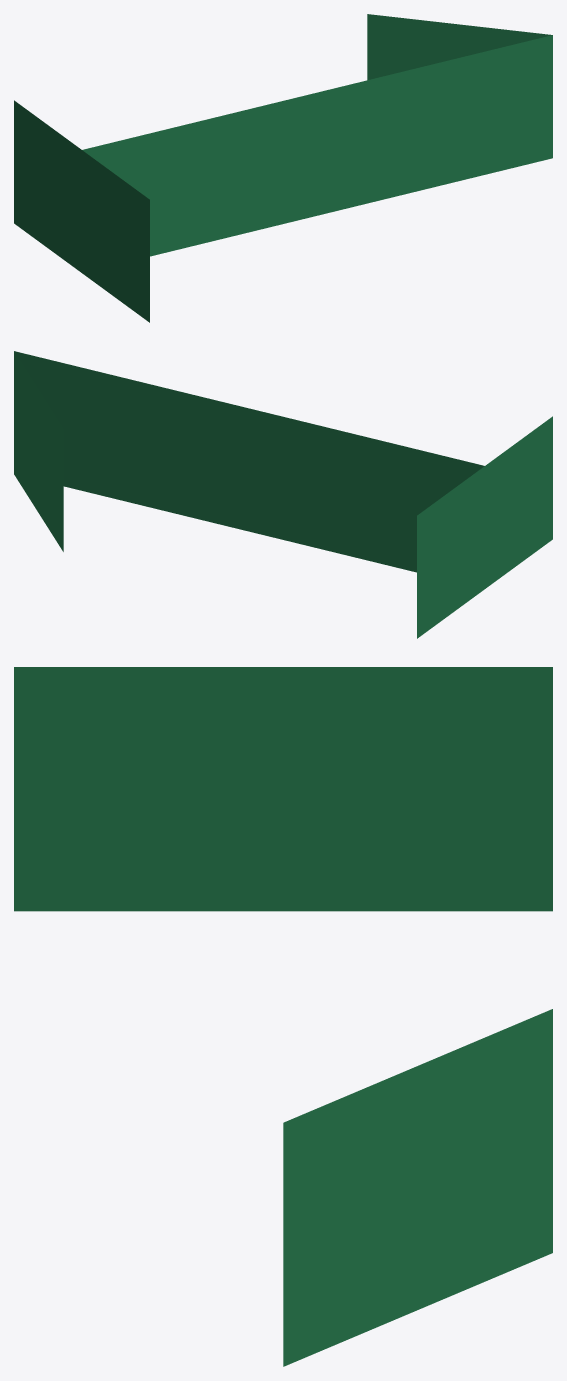
File: one.glb
3 renders of one model, top to bottom at view 1: azimuth 30°, elevation 25°; view 2: azimuth 150°, elevation 25°; view 3: azimuth 270°, elevation 25°, orthographic. The views are drawn at different scales.
Bounding box in the file's own units: 4 × 1 × 2.
